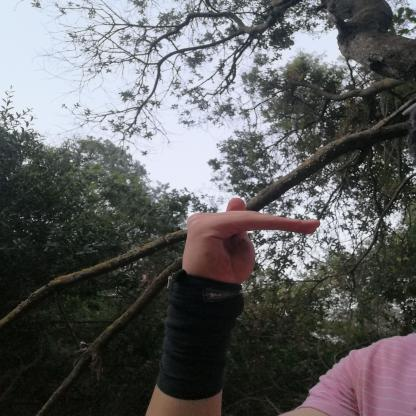KHAA: (170, 192, 338, 294)
